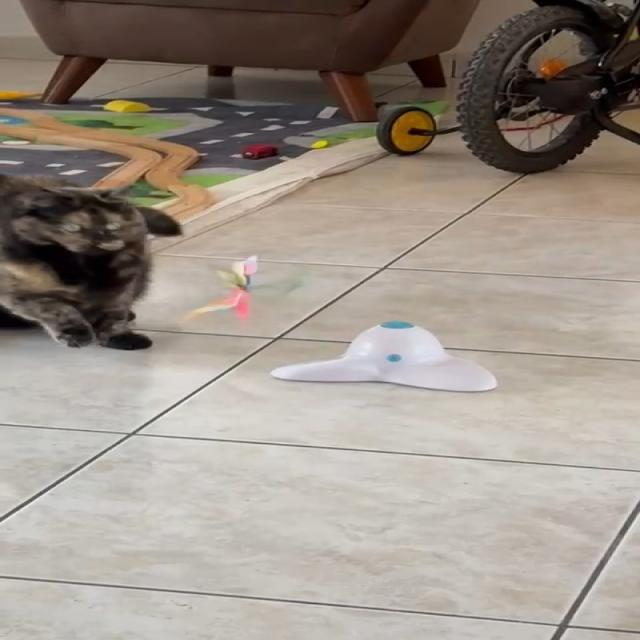authorized: (0, 172, 183, 350)
